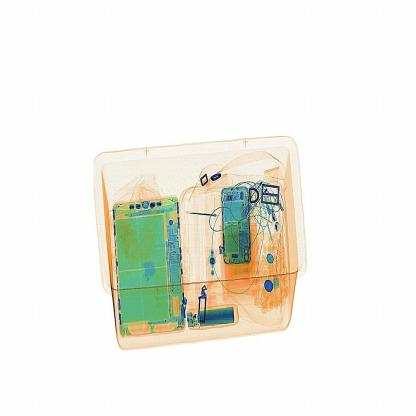wrench: (182, 204, 223, 226)
